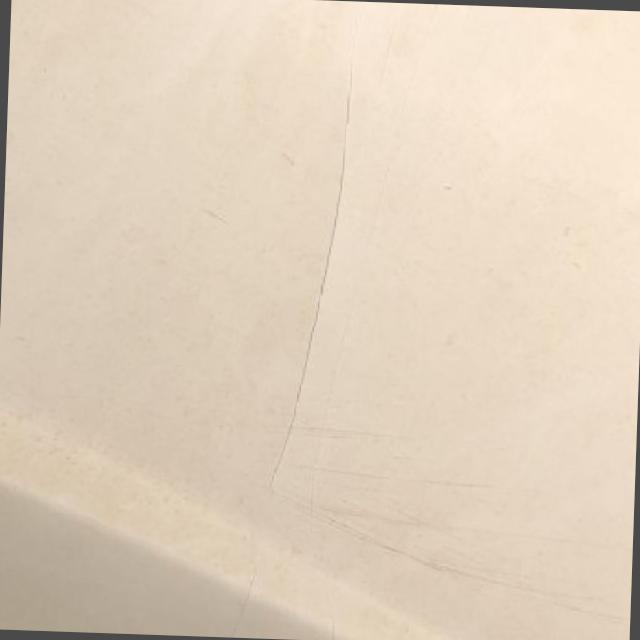crack: (267, 58, 359, 496)
